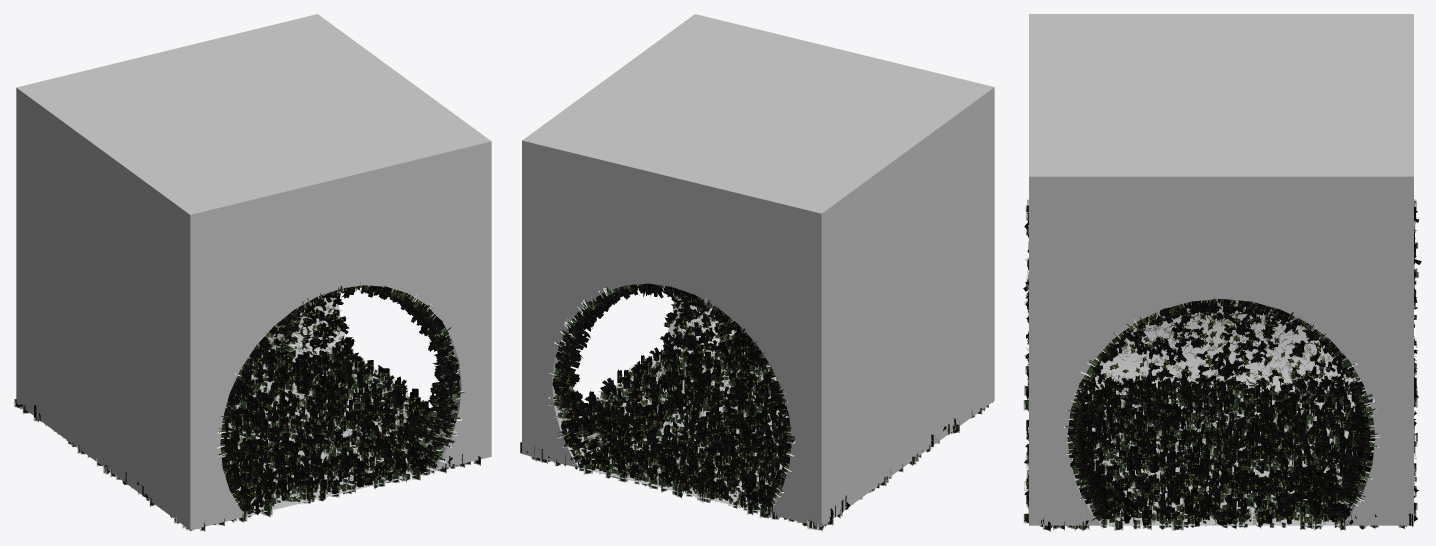
The model's file is Stage1TJunction.fbx.
3 renders of one model, left to right at view 1: azimuth 30°, elevation 25°; view 2: azimuth 150°, elevation 25°; view 3: azimuth 270°, elevation 25°, orthographic. The views are drawn at different scales.
Visible parts, largest first — view 1: Cube, Scattered_Tunnel_Ivy_Road_High, Scattered_Tunnel_Ivy_TJunction_High, Scattered_Tunnel_Ivy_Road_Low, Scattered_Tunnel_Ivy_TJunction_Low, Road; view 2: Cube, Scattered_Tunnel_Ivy_Road_High, Scattered_Tunnel_Ivy_TJunction_High, Scattered_Tunnel_Ivy_Road_Low, Scattered_Tunnel_Ivy_TJunction_Low, Road; view 3: Cube, Scattered_Tunnel_Ivy_Road_High, Scattered_Tunnel_Ivy_TJunction_High, Scattered_Tunnel_Ivy_Road_Low, Scattered_Tunnel_Ivy_TJunction_Low, Road.
Boxes of the visible parts, bbox=[...] form: Cube: bbox=[16, 14, 491, 530]; Scattered_Tunnel_Ivy_Road_High: bbox=[19, 335, 462, 523]; Scattered_Tunnel_Ivy_TJunction_High: bbox=[220, 285, 461, 513]; Scattered_Tunnel_Ivy_Road_Low: bbox=[14, 343, 480, 531]; Scattered_Tunnel_Ivy_TJunction_Low: bbox=[217, 282, 464, 506]; Road: bbox=[227, 350, 433, 516]; Cube: bbox=[522, 14, 994, 526]; Scattered_Tunnel_Ivy_Road_High: bbox=[520, 332, 972, 521]; Scattered_Tunnel_Ivy_TJunction_High: bbox=[552, 283, 791, 507]; Scattered_Tunnel_Ivy_Road_Low: bbox=[528, 343, 993, 531]; Scattered_Tunnel_Ivy_TJunction_Low: bbox=[548, 284, 795, 504]; Road: bbox=[581, 347, 787, 513]; Cube: bbox=[1029, 14, 1413, 525]; Scattered_Tunnel_Ivy_Road_High: bbox=[1024, 363, 1418, 526]; Scattered_Tunnel_Ivy_TJunction_High: bbox=[1023, 207, 1421, 521]; Scattered_Tunnel_Ivy_Road_Low: bbox=[1023, 358, 1417, 531]; Scattered_Tunnel_Ivy_TJunction_Low: bbox=[1024, 199, 1418, 521]; Road: bbox=[1085, 394, 1357, 525].
Bounding box in the file's own units: 20.72 × 20.37 × 20.71.
